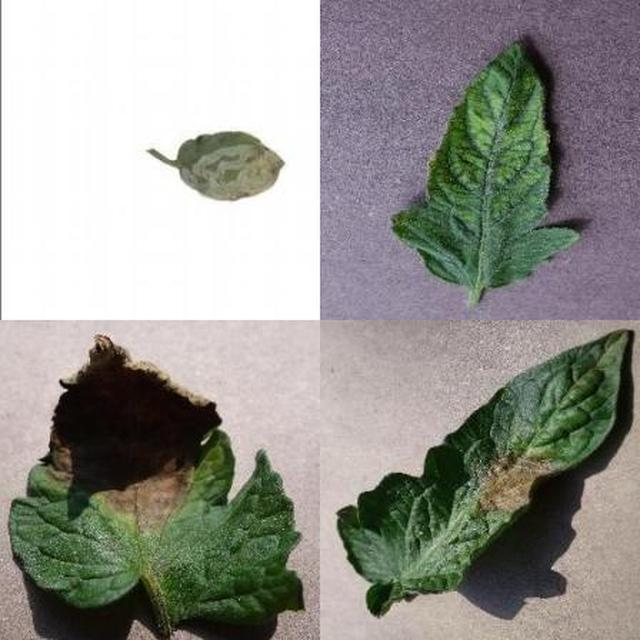Leaf Miner: (158, 102, 640, 640)
